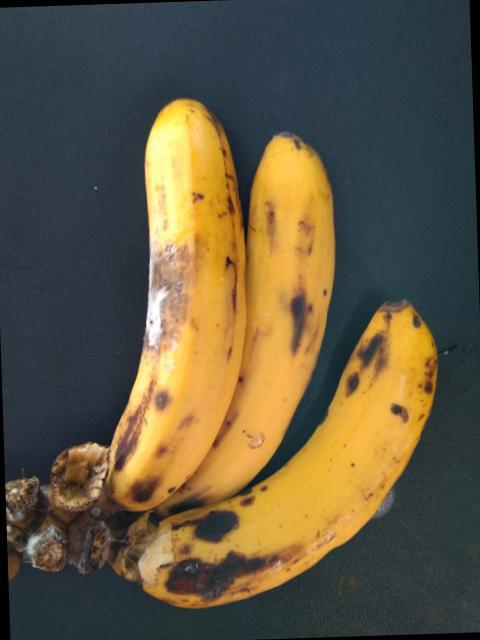overripe: (143, 293, 438, 625), (92, 77, 252, 513), (195, 111, 354, 505)
